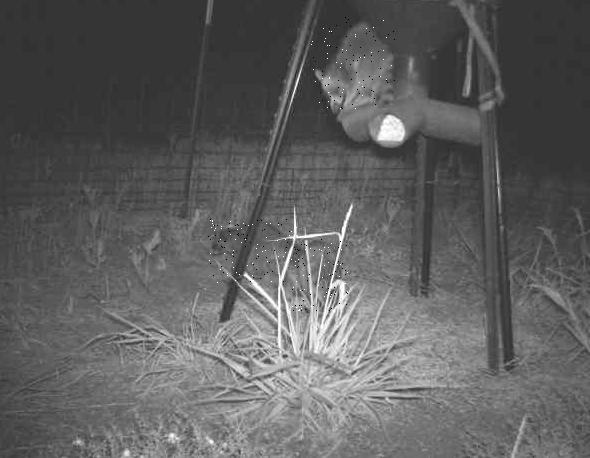Raccoon: (311, 18, 395, 112), (208, 220, 298, 285), (292, 239, 348, 312)
